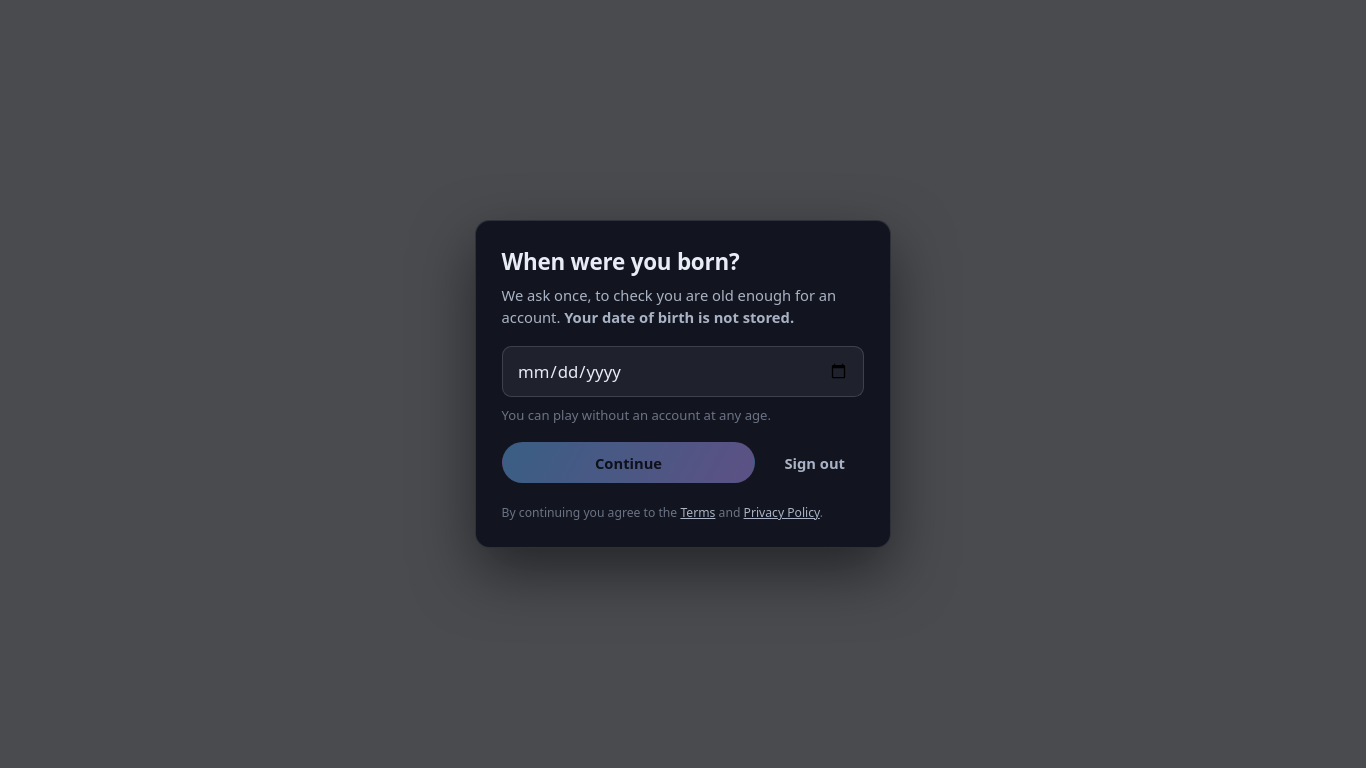
AgeGate › TURNS AN UNDER-13 AWAY KINDLY, and tells them they can still play
In the date field named "Date of birth": [683, 371] box top-left (502, 346), bottom-right (864, 396), type "2020-01-01"
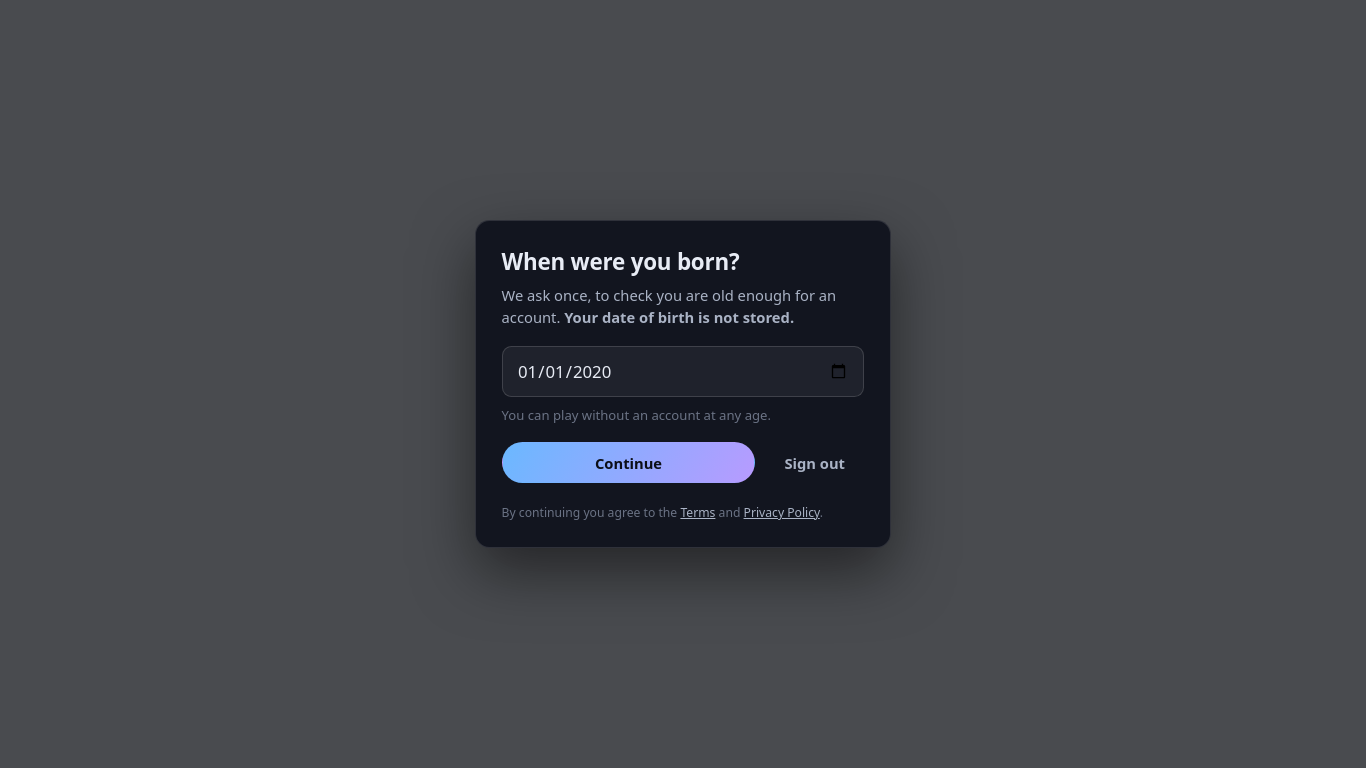
Click the button "Continue": [628, 463] box top-left (502, 442), bottom-right (755, 483)
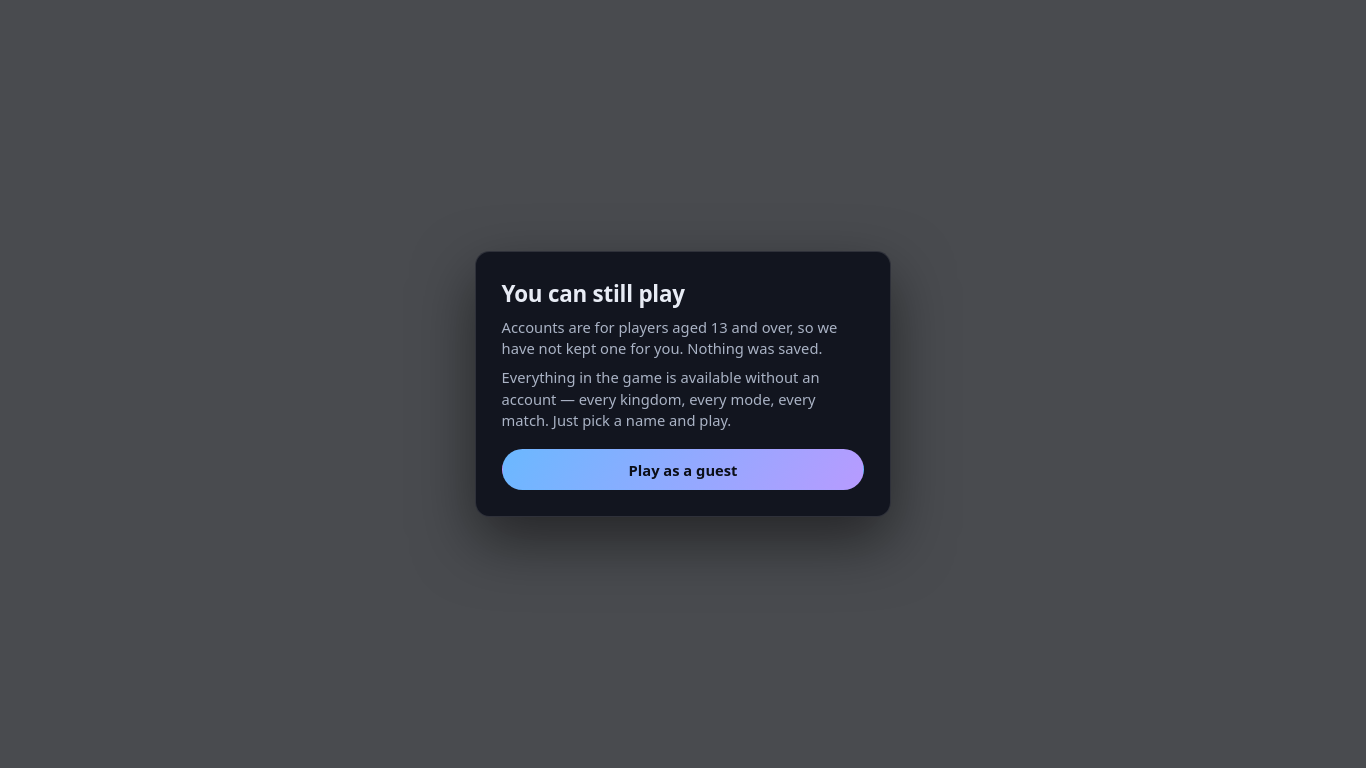
Result: the heading "You can still play" is shown at top-left (502, 278), bottom-right (685, 309)
Result: the text "nothing was saved" is shown at top-left (502, 317), bottom-right (837, 358)
Result: the button "Play as a guest" is shown at top-left (502, 449), bottom-right (864, 490)
